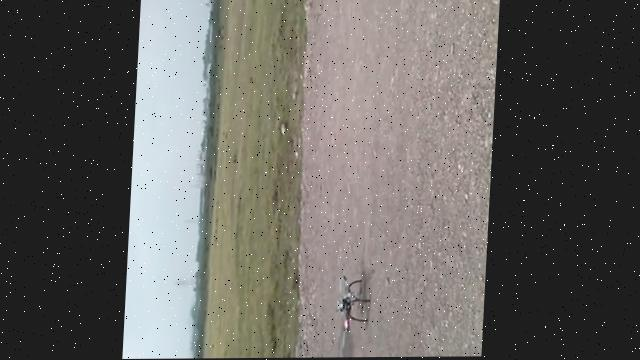drone: (333, 275, 373, 347)
